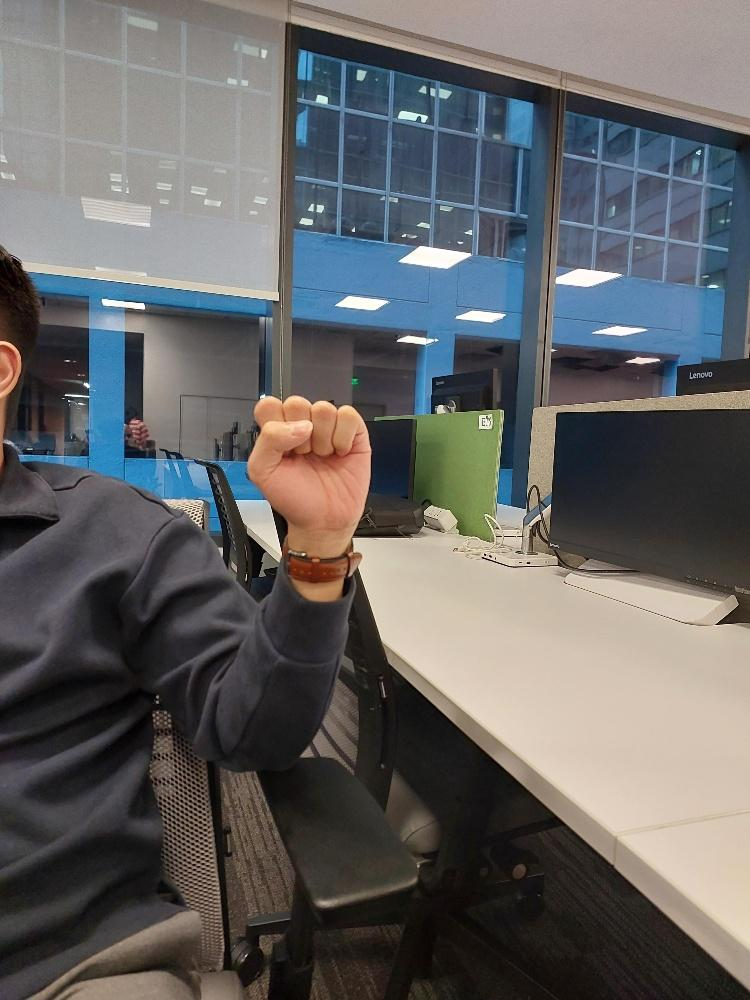s: (246, 393, 371, 527)
